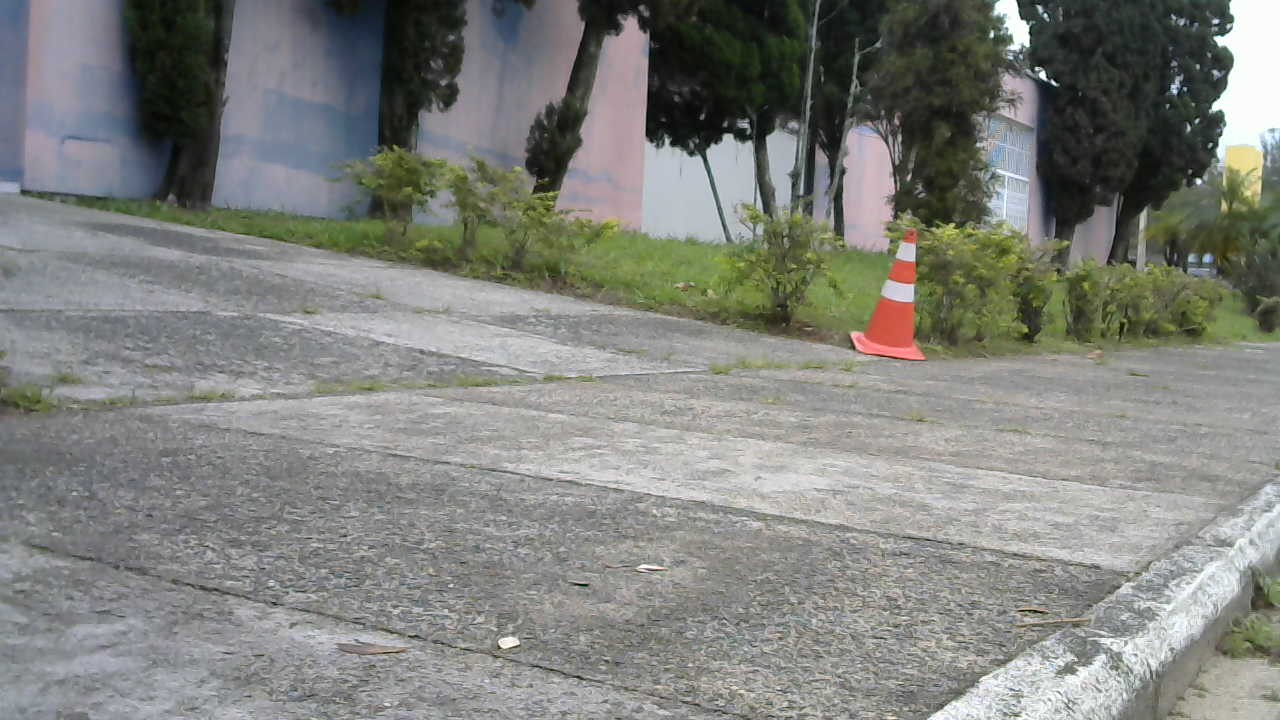cone: (851, 222, 927, 363)
